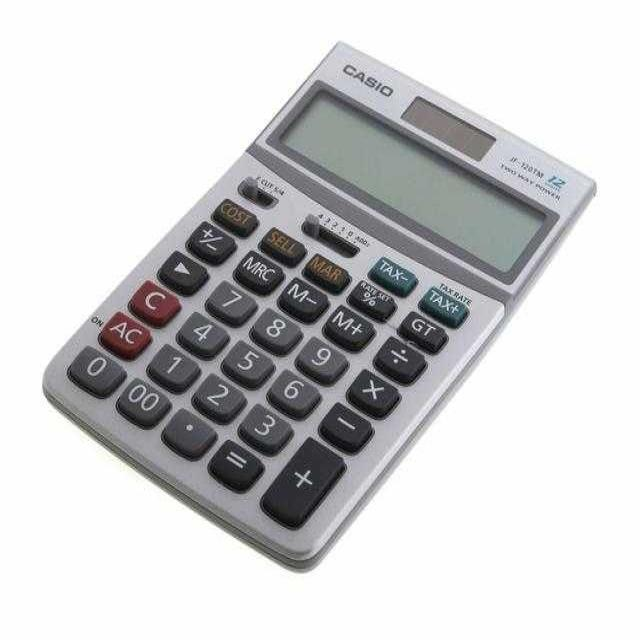Calculator: (42, 42, 595, 569)
